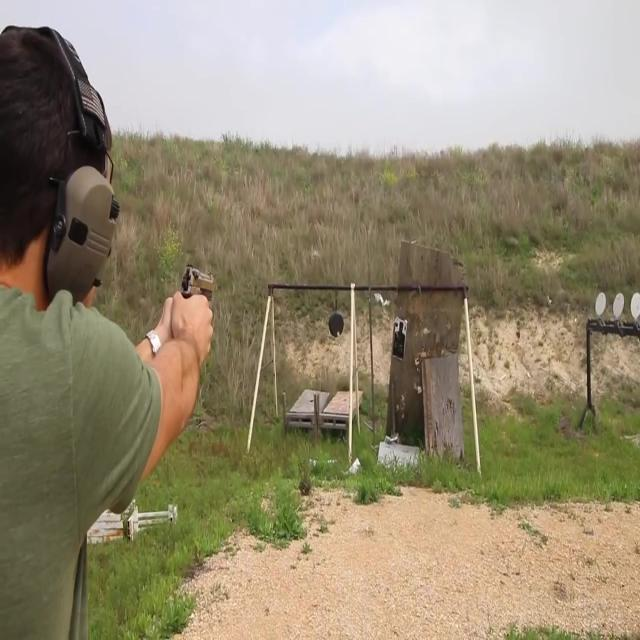Weapon: (159, 230, 244, 362)
